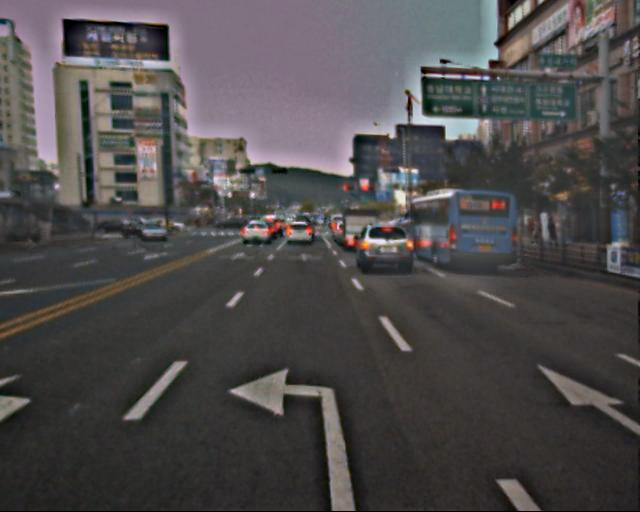person: (544, 214, 561, 255), (521, 216, 540, 246)
